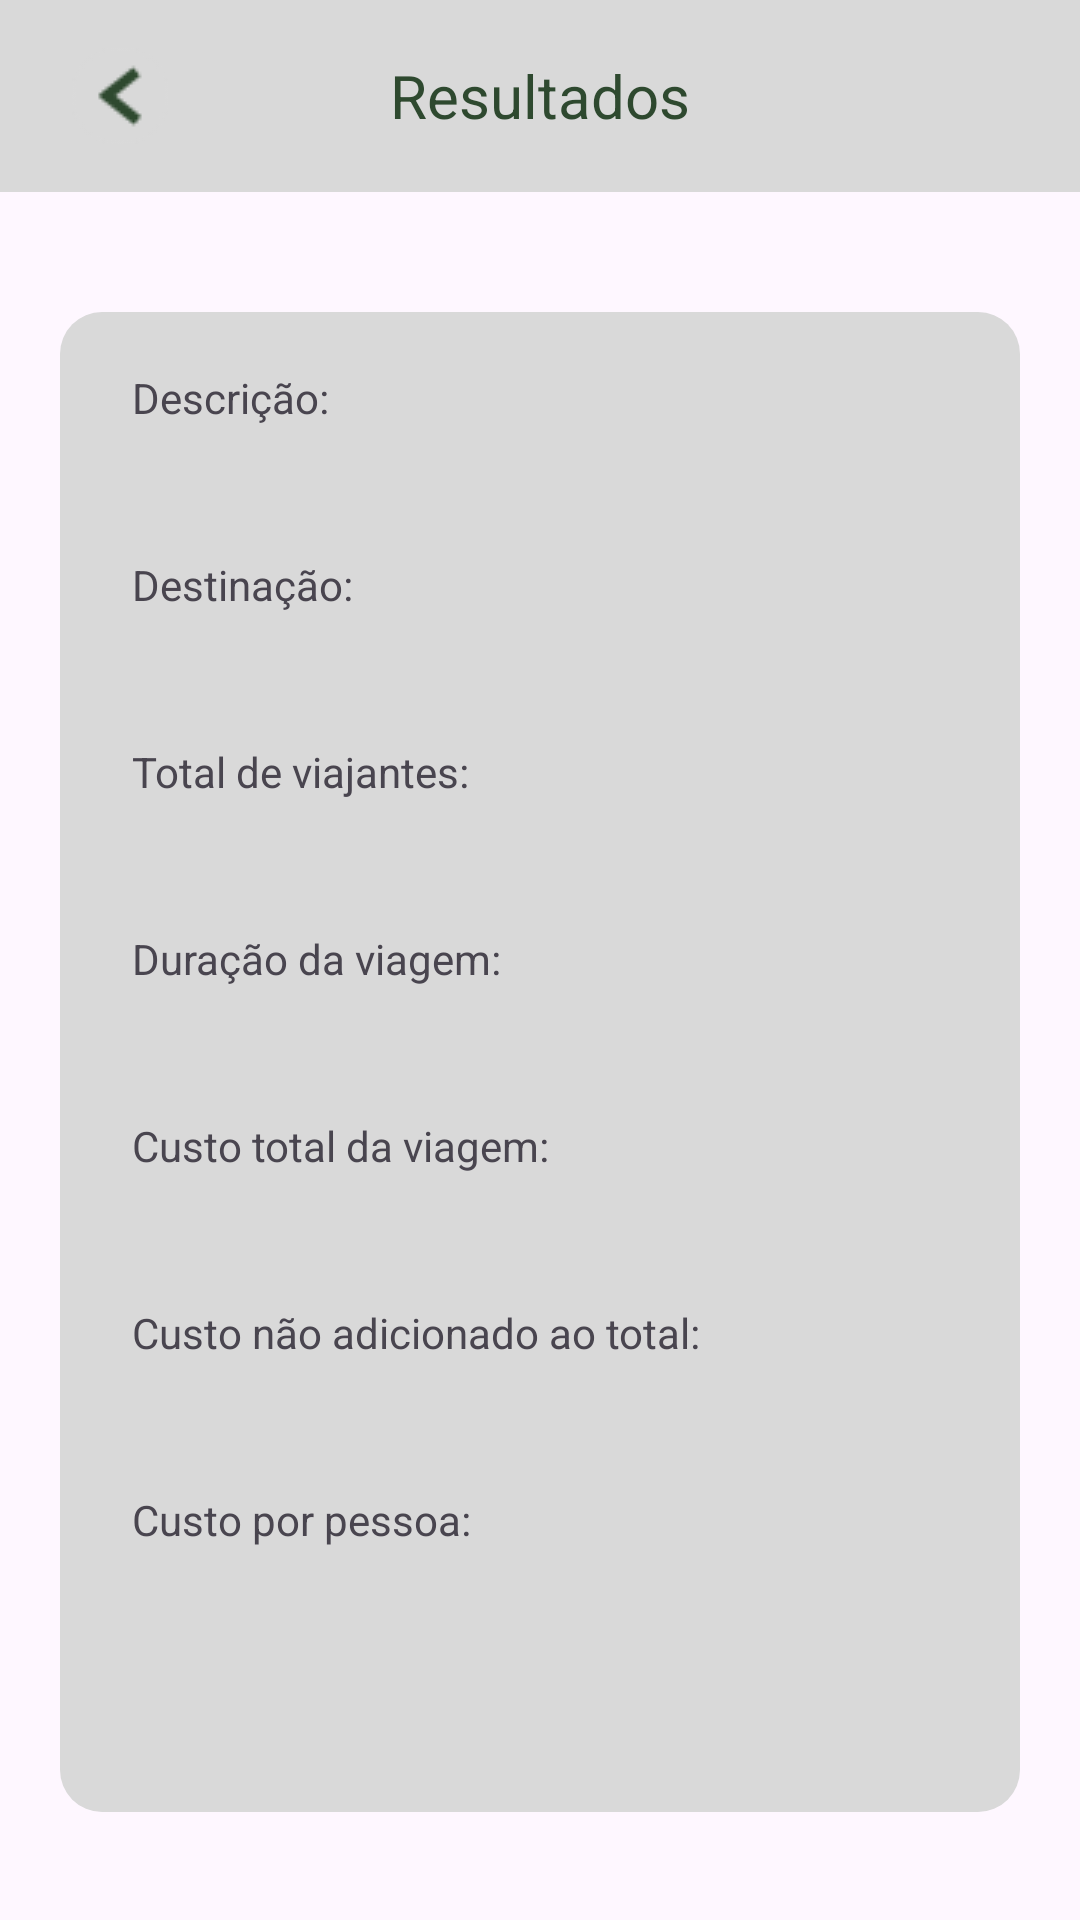

Icon bounding boxes for this 1080×1920 phone screenshot, format (x1, y1, x2, y2):
Voltar: (98, 66, 142, 126)
